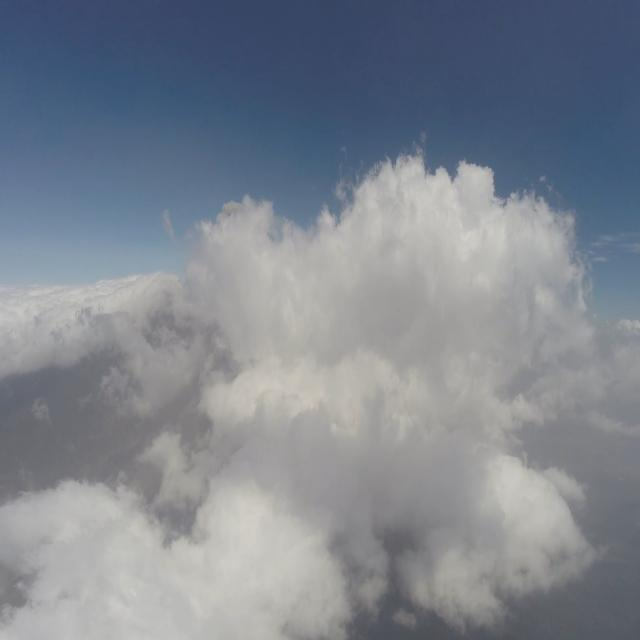Plume: (218, 196, 240, 215)
